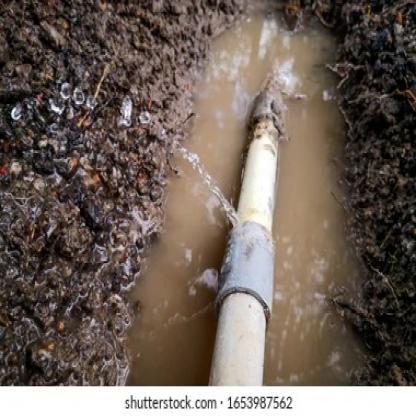PVC: (208, 88, 285, 389)
